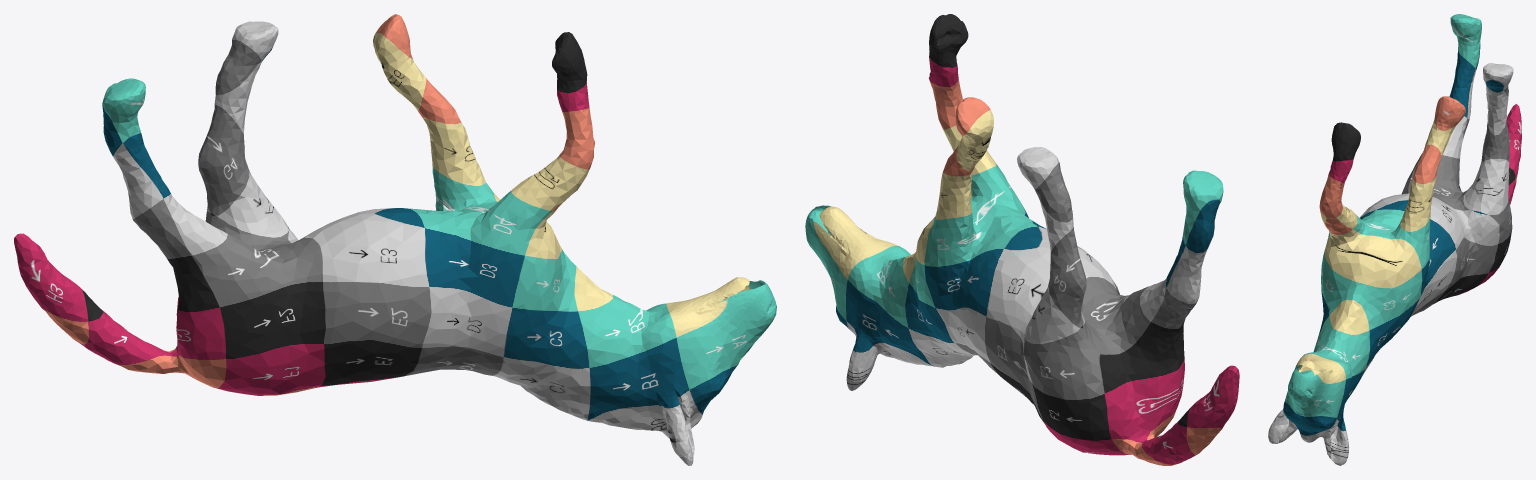
Rendered from dog_05-horse_01.obj.
The picture shows the model from 3 angles, left to right: view 1: azimuth 30°, elevation 25°; view 2: azimuth 150°, elevation 25°; view 3: azimuth 270°, elevation 25°; orthographic projection. The views are drawn at different scales.
Parts seen in each view (by area): view 1: dog_05-horse_01_export; view 2: dog_05-horse_01_export; view 3: dog_05-horse_01_export.
Boxes of the visible parts, bbox=[...] form: dog_05-horse_01_export: bbox=[14, 14, 776, 465]; dog_05-horse_01_export: bbox=[805, 14, 1239, 465]; dog_05-horse_01_export: bbox=[1268, 14, 1521, 465].
Bounding box in the file's own units: 1.09 × 0.7289 × 0.5466.
